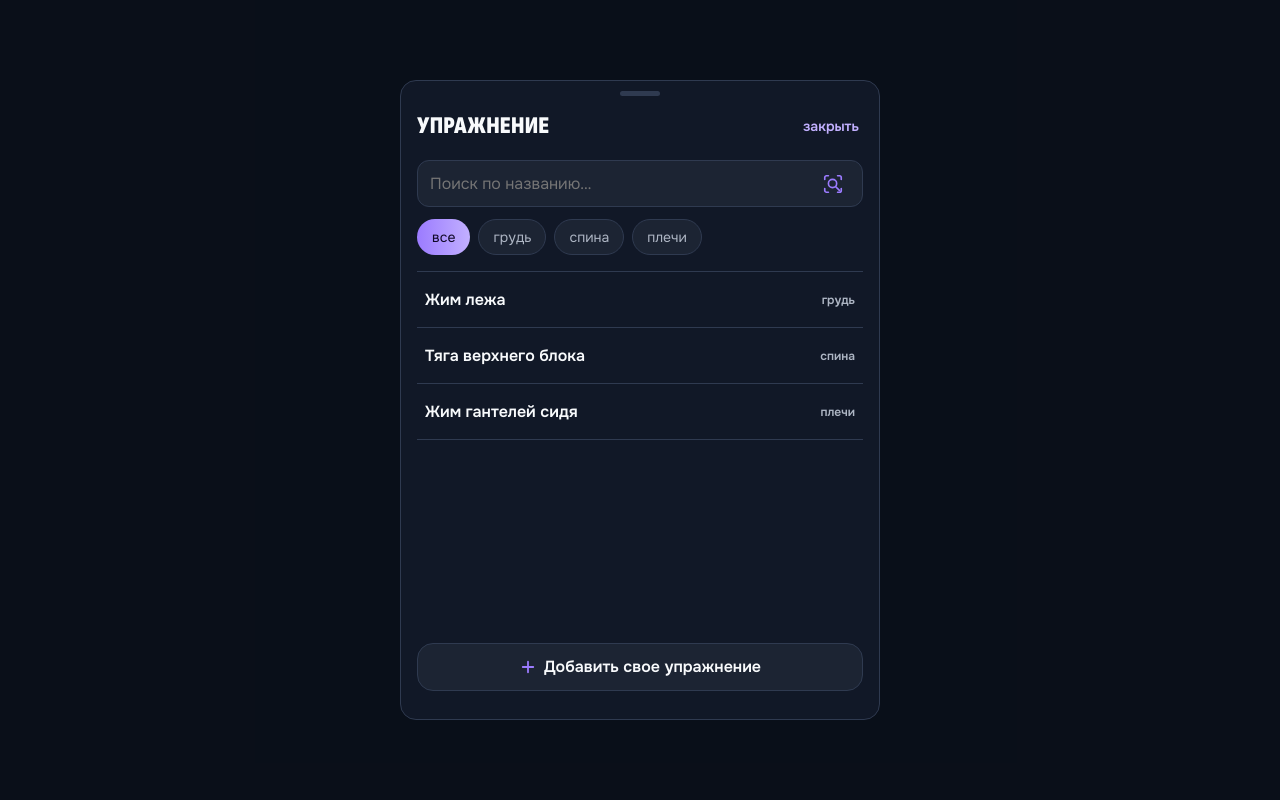
Test: ExercisePicker — умный поиск › фильтр по группе сужает результат поиска
The image size is (1280, 800).
Type "жим" into the field with placeholder "Поиск по названию…". click: (640, 184)
box: [417, 160, 863, 207]
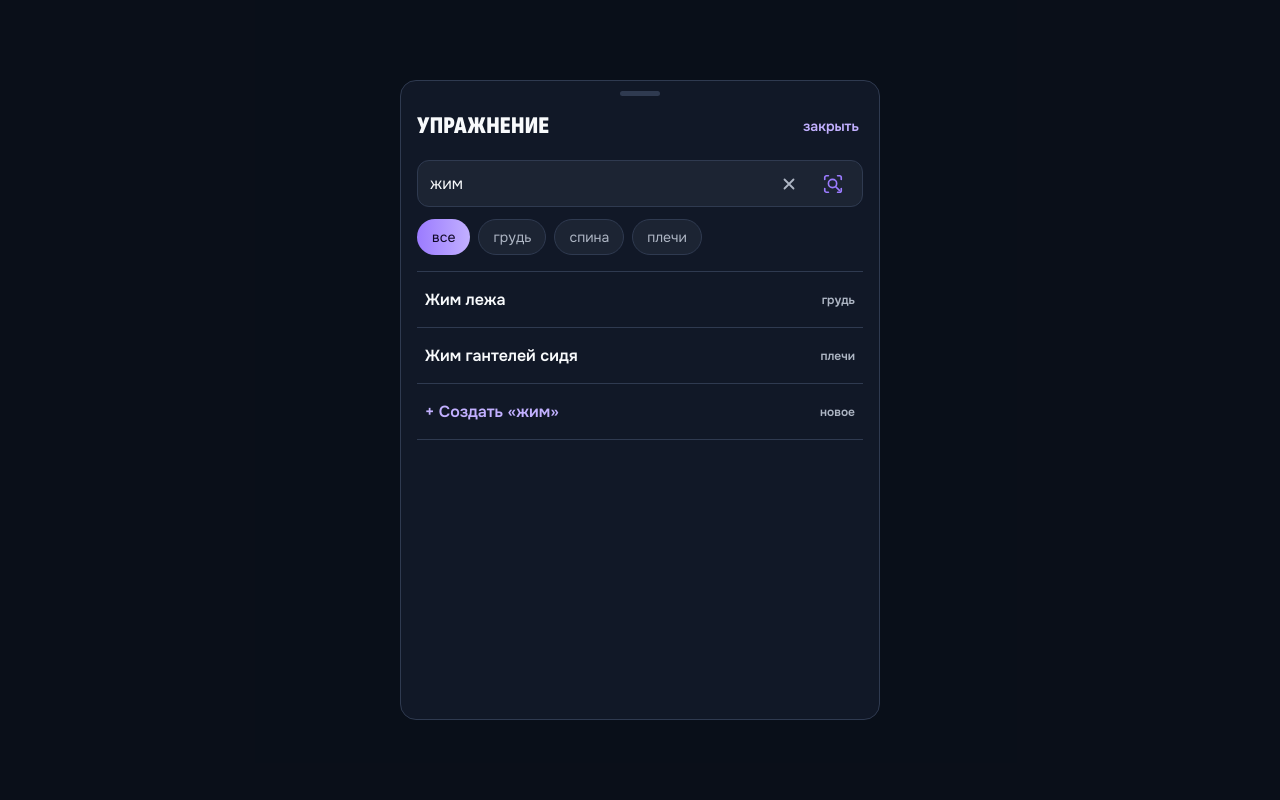
Expected: the text "Жим гантелей сидя" is shown, [425, 345, 578, 366]
Click the button "грудь". click: (512, 237)
box: [478, 219, 546, 255]
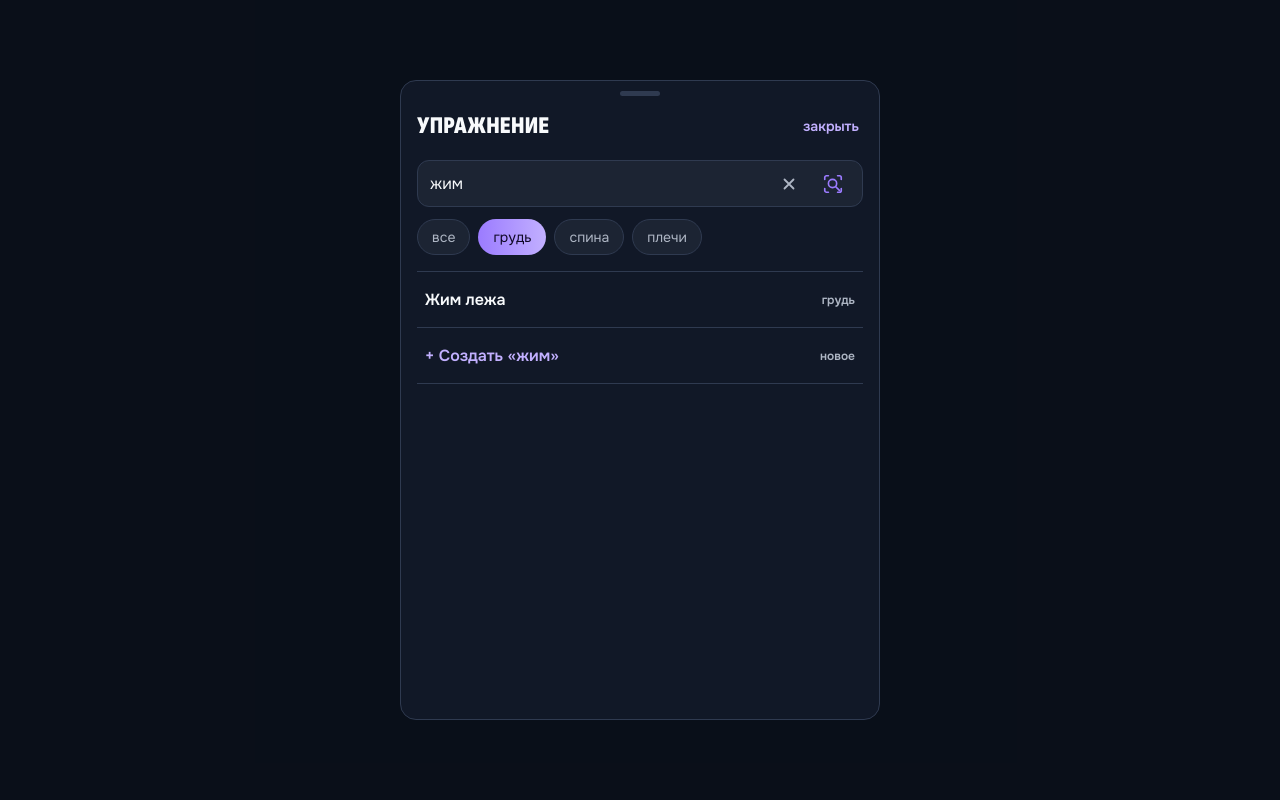
Expected: the text "Жим лежа" is shown, [425, 289, 505, 310]
Result: the button "Жим гантелей сидя" is gone
